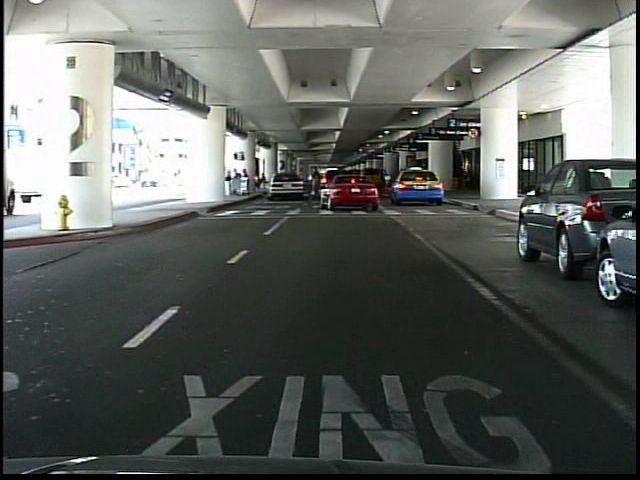person: (310, 165, 322, 199)
